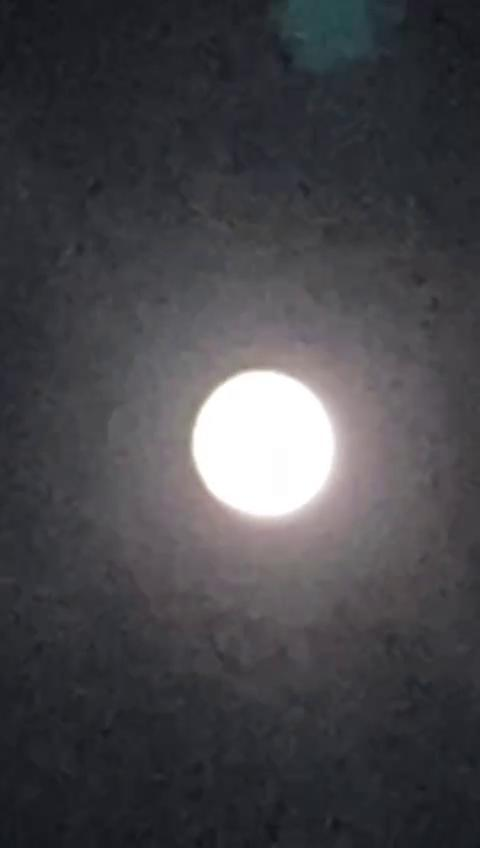moon: (175, 369, 353, 560)
